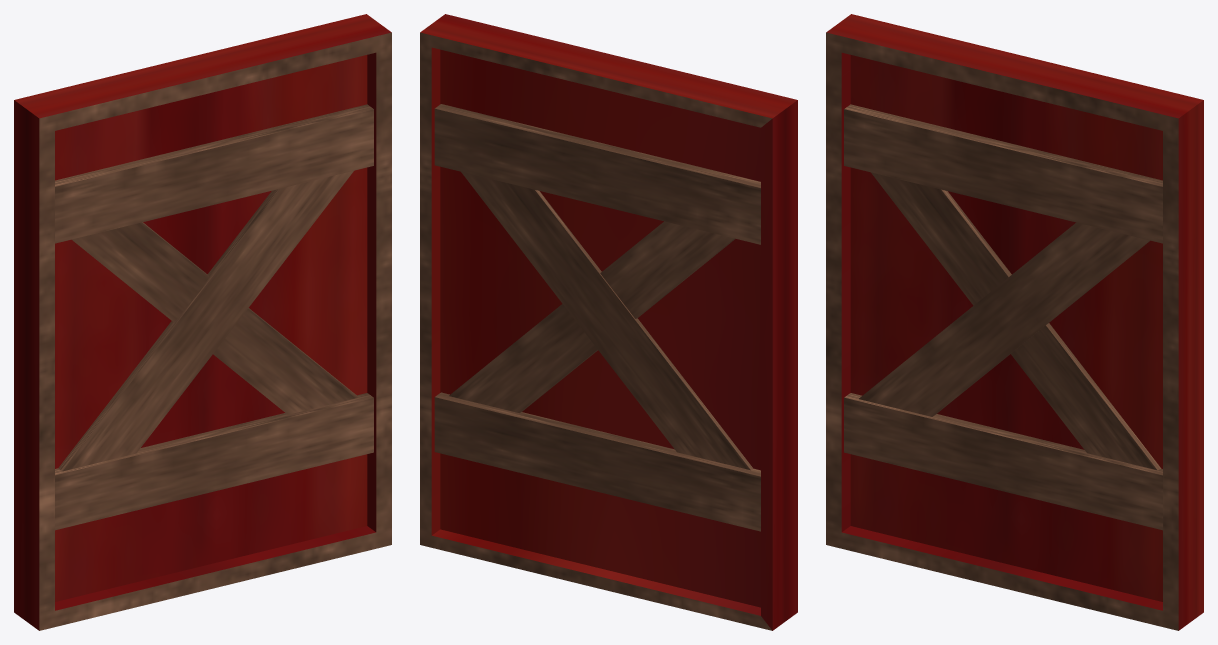
The model's file is Puerta_Granero.obj.
3 renders of one model, left to right at view 1: azimuth 30°, elevation 25°; view 2: azimuth 150°, elevation 25°; view 3: azimuth 330°, elevation 25°, orthographic.
Visible parts, largest first — view 1: Cube.011_Cube.003, Cube.014_Cube.031, Cube.015_Cube.054, Cube.035_Cube.080, Cube.103_Cube.122; view 2: Cube.011_Cube.003, Cube.014_Cube.031, Cube.015_Cube.054, Cube.035_Cube.080, Cube.103_Cube.122; view 3: Cube.011_Cube.003, Cube.014_Cube.031, Cube.015_Cube.054, Cube.035_Cube.080, Cube.103_Cube.122.
Boxes of the visible parts, x1,y1,x2,y2 form: Cube.011_Cube.003: [14, 14, 391, 630]; Cube.014_Cube.031: [55, 104, 373, 243]; Cube.015_Cube.054: [55, 393, 373, 530]; Cube.035_Cube.080: [58, 170, 353, 471]; Cube.103_Cube.122: [72, 222, 357, 414]; Cube.011_Cube.003: [420, 14, 797, 630]; Cube.014_Cube.031: [434, 104, 760, 244]; Cube.015_Cube.054: [434, 392, 760, 531]; Cube.035_Cube.080: [461, 172, 752, 470]; Cube.103_Cube.122: [449, 221, 735, 412]; Cube.011_Cube.003: [826, 14, 1203, 630]; Cube.014_Cube.031: [844, 104, 1162, 243]; Cube.015_Cube.054: [844, 393, 1162, 530]; Cube.035_Cube.080: [859, 222, 1149, 416]; Cube.103_Cube.122: [871, 172, 1161, 470].
Size of the model in its own units: 3.55 by 4.93 by 0.4405.
2 materials, 2 textured.
